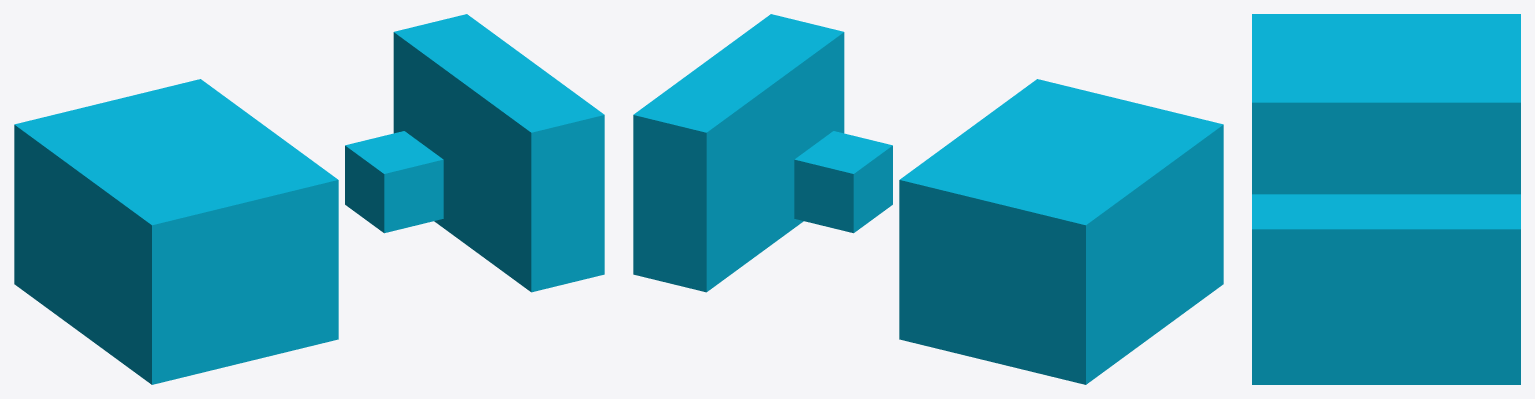
Rendered from boarding_craft-collision.glb.
3 views of the same model, side by side, from view 1: azimuth 30°, elevation 25°; view 2: azimuth 150°, elevation 25°; view 3: azimuth 270°, elevation 25° (orthographic). The views are drawn at different scales.
Visible parts, largest first — view 1: Collider_wing_port, Collider_wing_starboard, Collider_body; view 2: Collider_wing_port, Collider_wing_starboard, Collider_body; view 3: Collider_wing_starboard, Collider_wing_port.
Part boxes in pixels (bbox=[...]): Collider_wing_port: bbox=[14, 79, 338, 384]; Collider_wing_starboard: bbox=[393, 14, 604, 292]; Collider_body: bbox=[345, 131, 443, 233]; Collider_wing_port: bbox=[899, 79, 1223, 384]; Collider_wing_starboard: bbox=[633, 14, 844, 292]; Collider_body: bbox=[794, 131, 892, 233]; Collider_wing_starboard: bbox=[1252, 194, 1520, 384]; Collider_wing_port: bbox=[1252, 14, 1520, 194].
Size of the model in its own units: 7.21 by 2.43 by 3.8.
